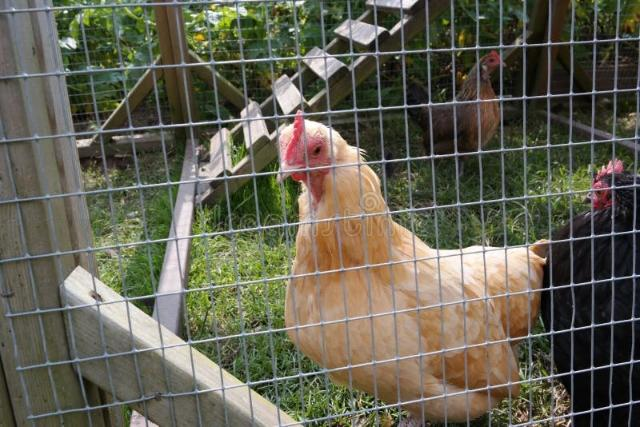Chicken: (273, 109, 544, 427), (541, 155, 640, 427), (406, 48, 506, 168)
